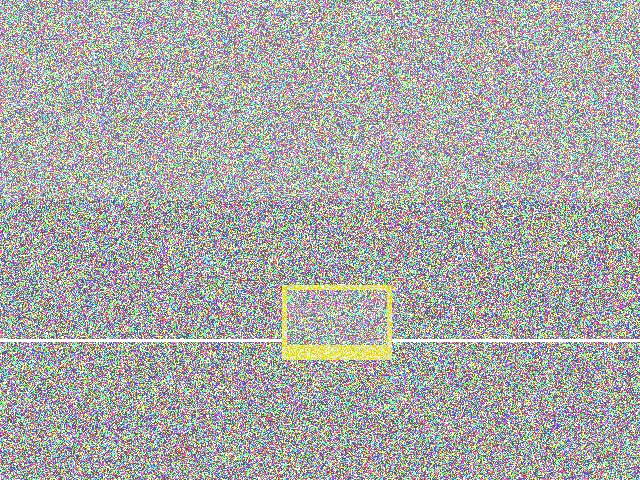motorcycle: (217, 231, 408, 345)
